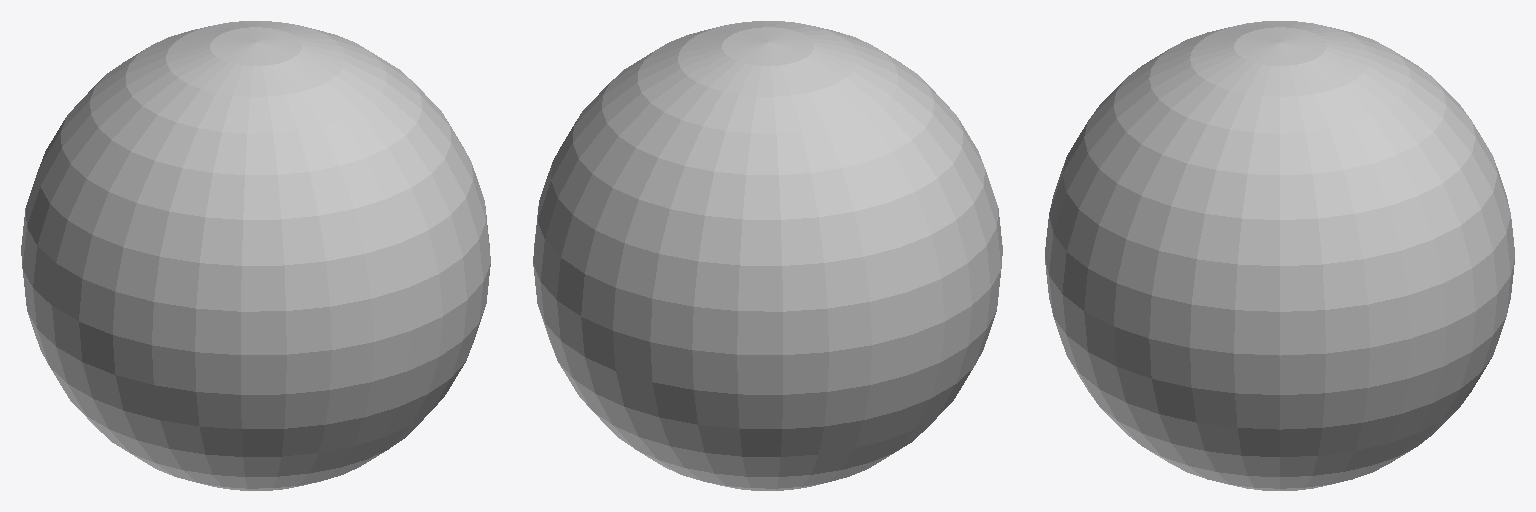
The model's file is Background1.obj.
3 renders of one model, left to right at view 1: azimuth 30°, elevation 25°; view 2: azimuth 150°, elevation 25°; view 3: azimuth 270°, elevation 25°, orthographic.
Visible parts, largest first — view 1: 球; view 2: 球; view 3: 球.
Boxes of the visible parts, x1=… form: 球: x1=21, y1=21, x2=490, y2=490; 球: x1=533, y1=21, x2=1002, y2=490; 球: x1=1045, y1=21, x2=1514, y2=490.
Bounding box in the file's own units: 4 × 4 × 4.